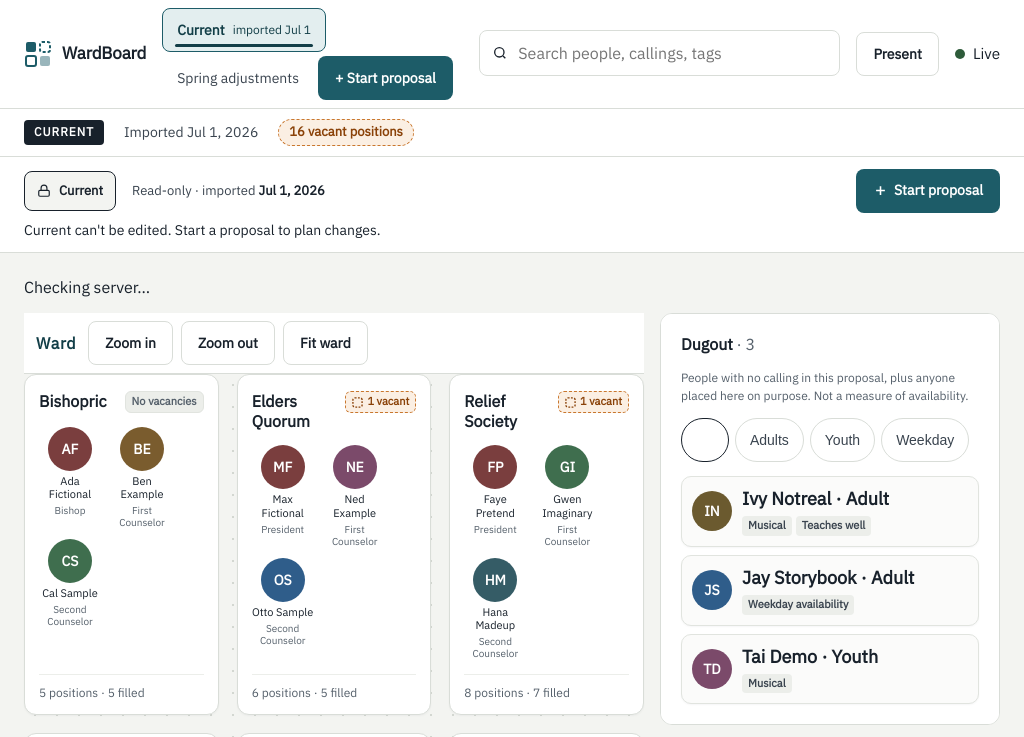
Test: T-082 proposal summary in app › updates live when an op commits
What coordinates should you click on to do the following:
click the tab "Spring adjustments"
I would click on:
 (238, 78)
Its box is [162,56,314,100].
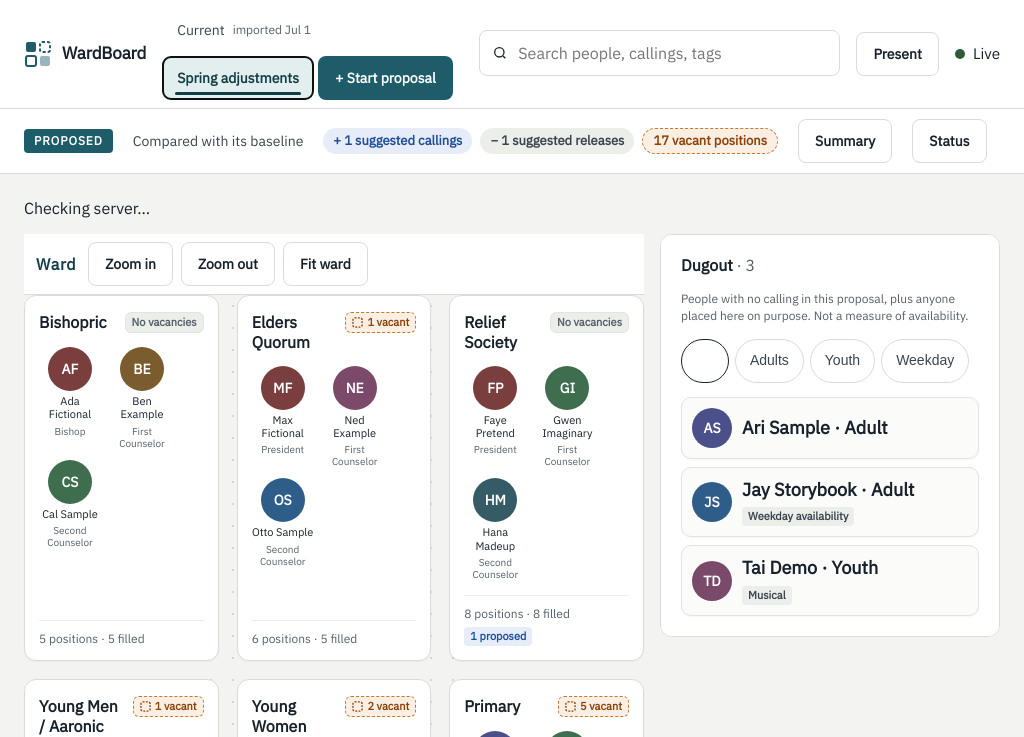
Note: Open Summary
What coordinates should you click on to do the following:
click the button "Summary"
I would click on:
 (845, 141)
Its box is [798,119,892,163].
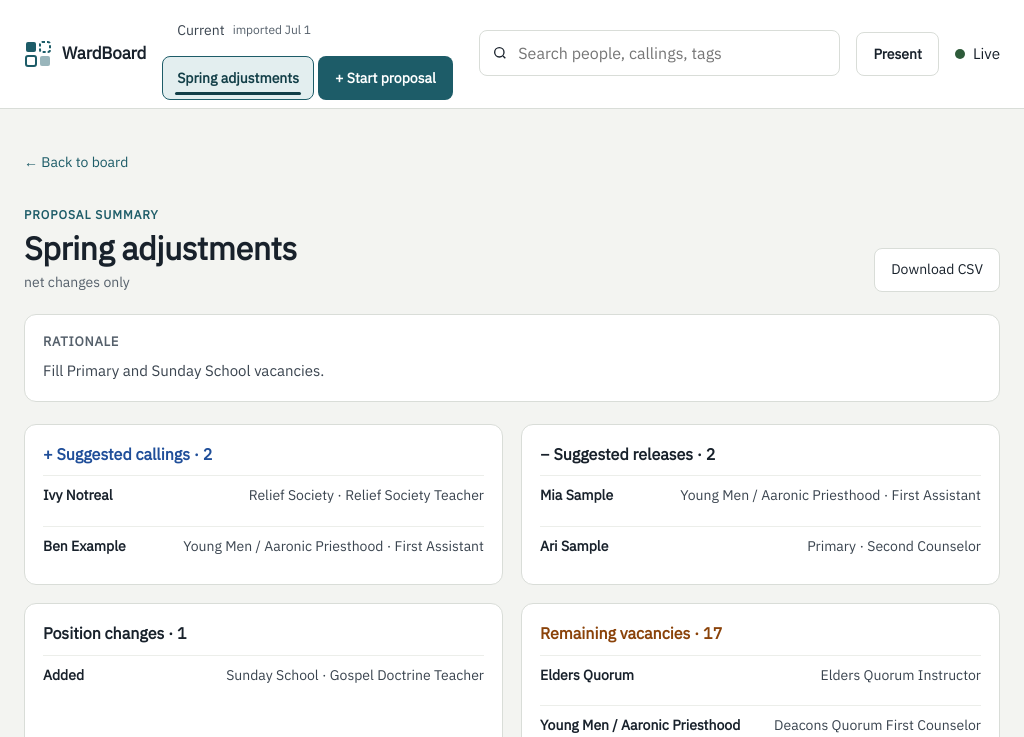
Expected: the text "Ben Example" is shown, [43,537,126,556]
Now the heading "+ Suggested callings · 2" is shown, box [43,444,212,464]
